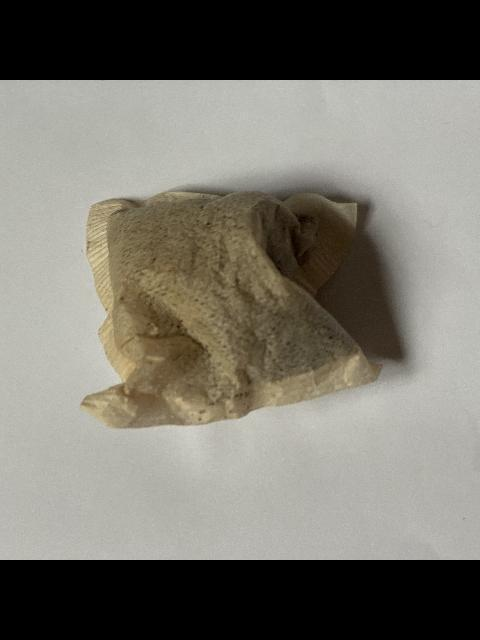teabag: (77, 188, 385, 430)
